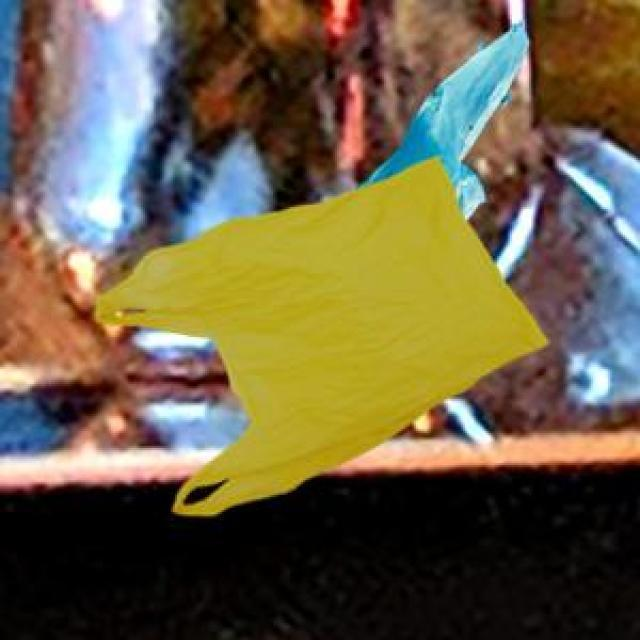waste: (96, 25, 545, 516)
